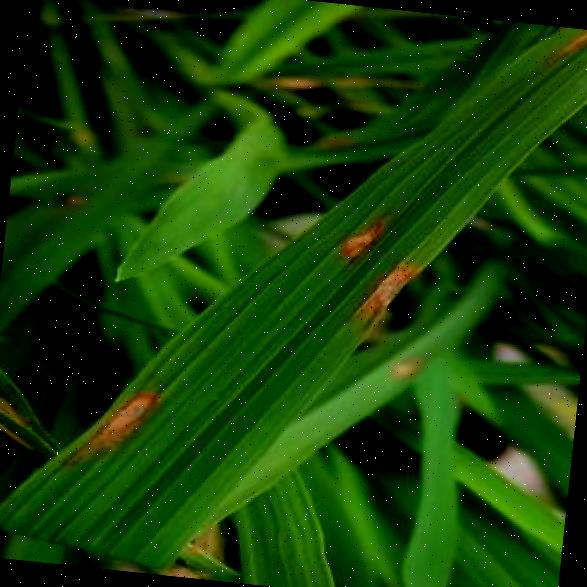Leaf_smut: (14, 354, 193, 479), (339, 246, 435, 338), (296, 182, 402, 265)
